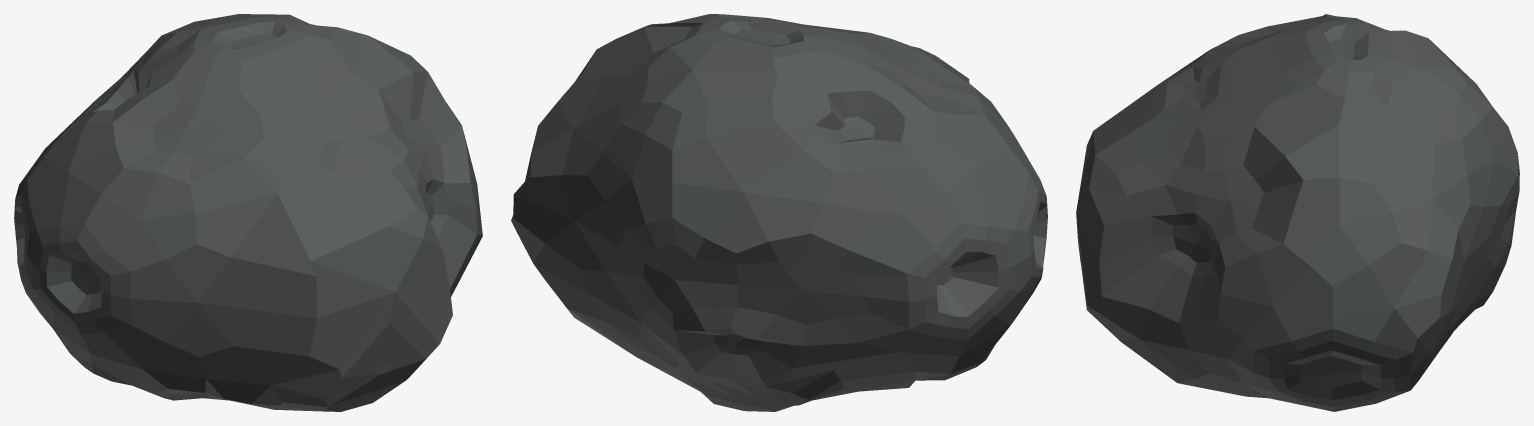
Rendered from asteroid2.fbx.
3 views of the same model, side by side, from view 1: azimuth 30°, elevation 25°; view 2: azimuth 150°, elevation 25°; view 3: azimuth 270°, elevation 25° (orthographic). The views are drawn at different scales.
Parts seen in each view (by area): view 1: Icosphere; view 2: Icosphere; view 3: Icosphere.
Boxes of the visible parts, x1,y1,x2,y2 form: Icosphere: (14,14,482,411); Icosphere: (511,14,1047,411); Icosphere: (1076,14,1519,411).
Bounding box in the file's own units: 249 × 183 × 216.
